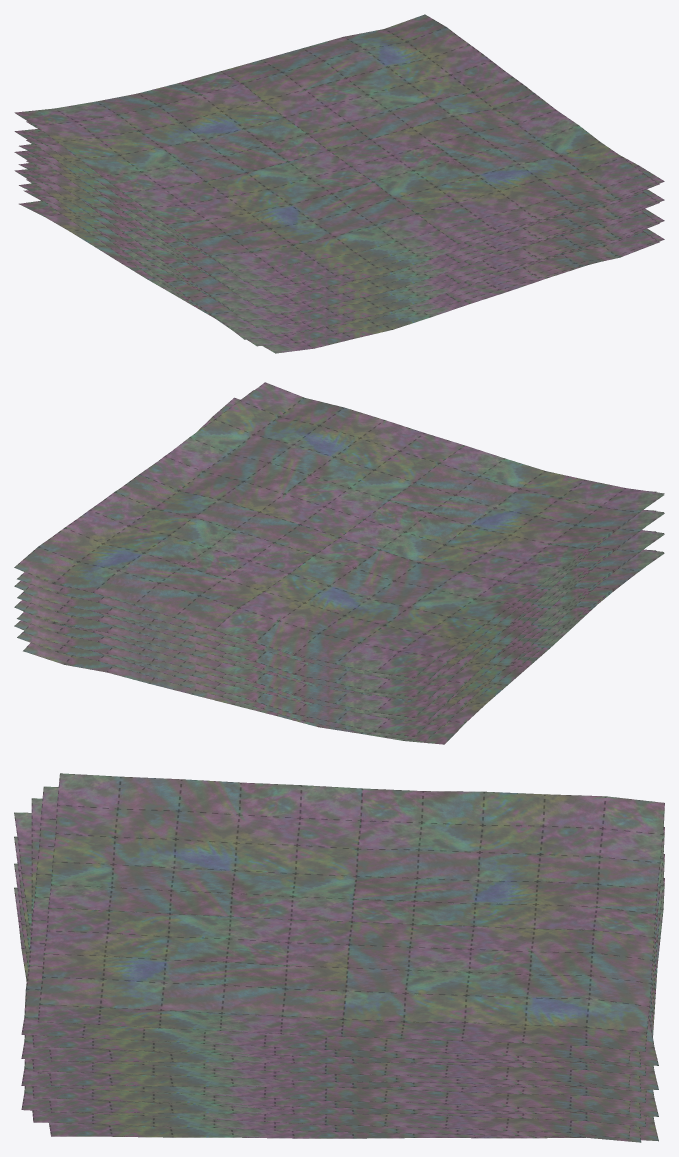
Rendered from lsd.glb.
3 views of the same model, one above another, from view 1: azimuth 30°, elevation 25°; view 2: azimuth 150°, elevation 25°; view 3: azimuth 270°, elevation 25° (orthographic). The views are drawn at different scales.
Parts seen in each view (by area): view 1: LSD Tab Stack; view 2: LSD Tab Stack; view 3: LSD Tab Stack.
Part boxes in pixels (bbox=[...]): LSD Tab Stack: bbox=[14, 14, 664, 353]; LSD Tab Stack: bbox=[14, 382, 664, 744]; LSD Tab Stack: bbox=[14, 773, 664, 1142].
Bounding box in the file's own units: 0.2119 × 0.0498 × 0.2144.
Materials: 1 (1 with a texture image).
